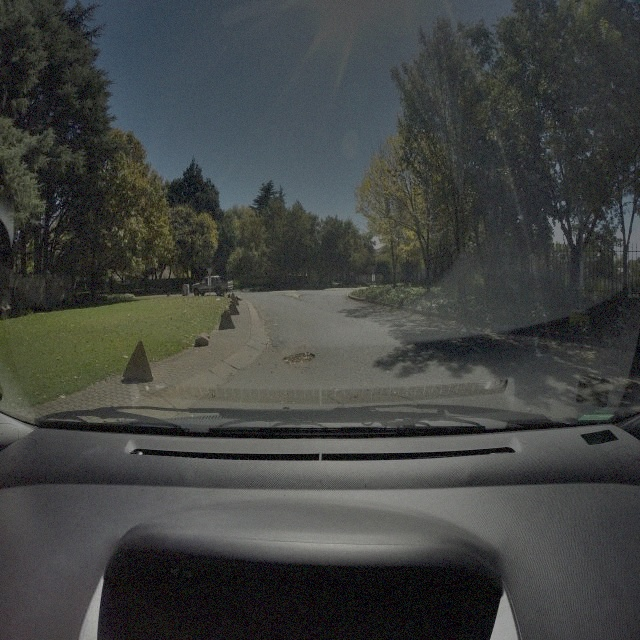pothole: (281, 352, 316, 364)
